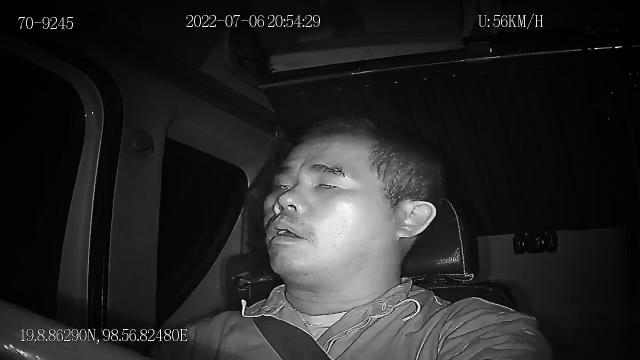SafeDriving: (308, 172, 348, 197)
Seatbelt: (225, 274, 335, 360)
